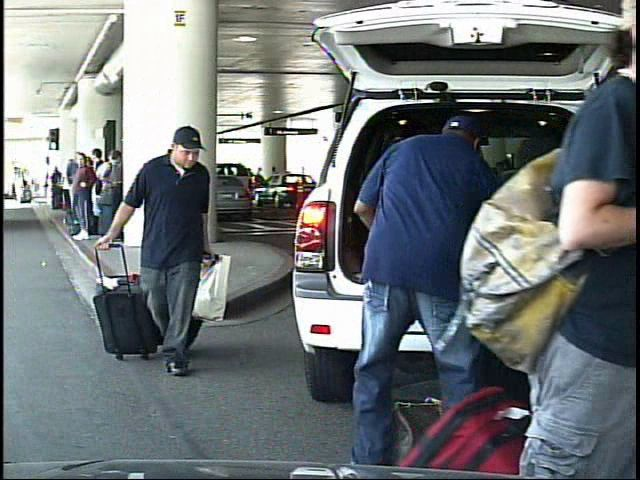person: (462, 12, 640, 476), (314, 104, 501, 476), (94, 120, 232, 385), (14, 173, 24, 203)
